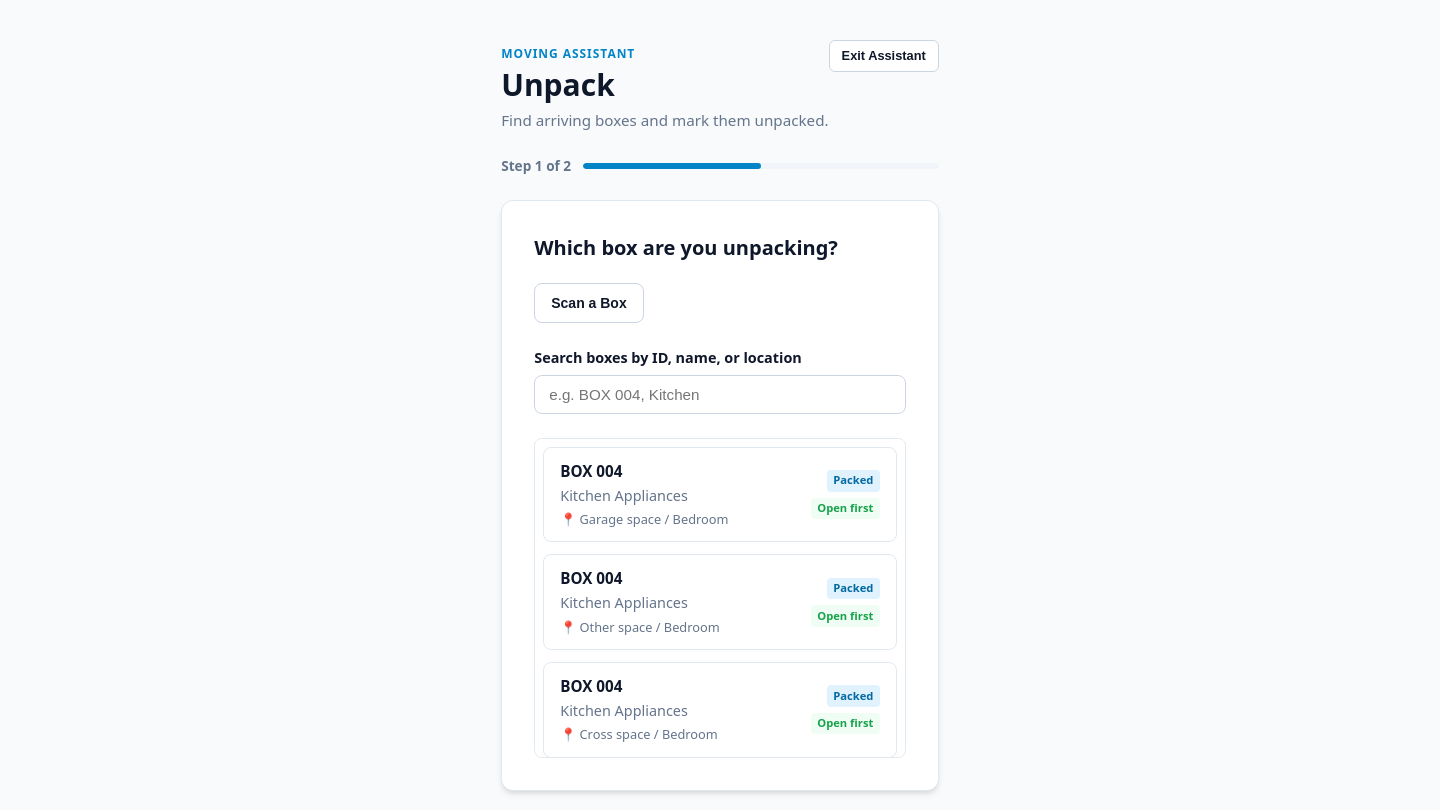
Test: QuickPackScreen Phase 2 (Landing, Pack a Box, Move Boxes) › Moving Assistant Phase 3 - Unpack › M: Already-unpacked scan shows warning and View Box button
Click the button "Scan a Box": click(589, 303) [534,283,644,323]
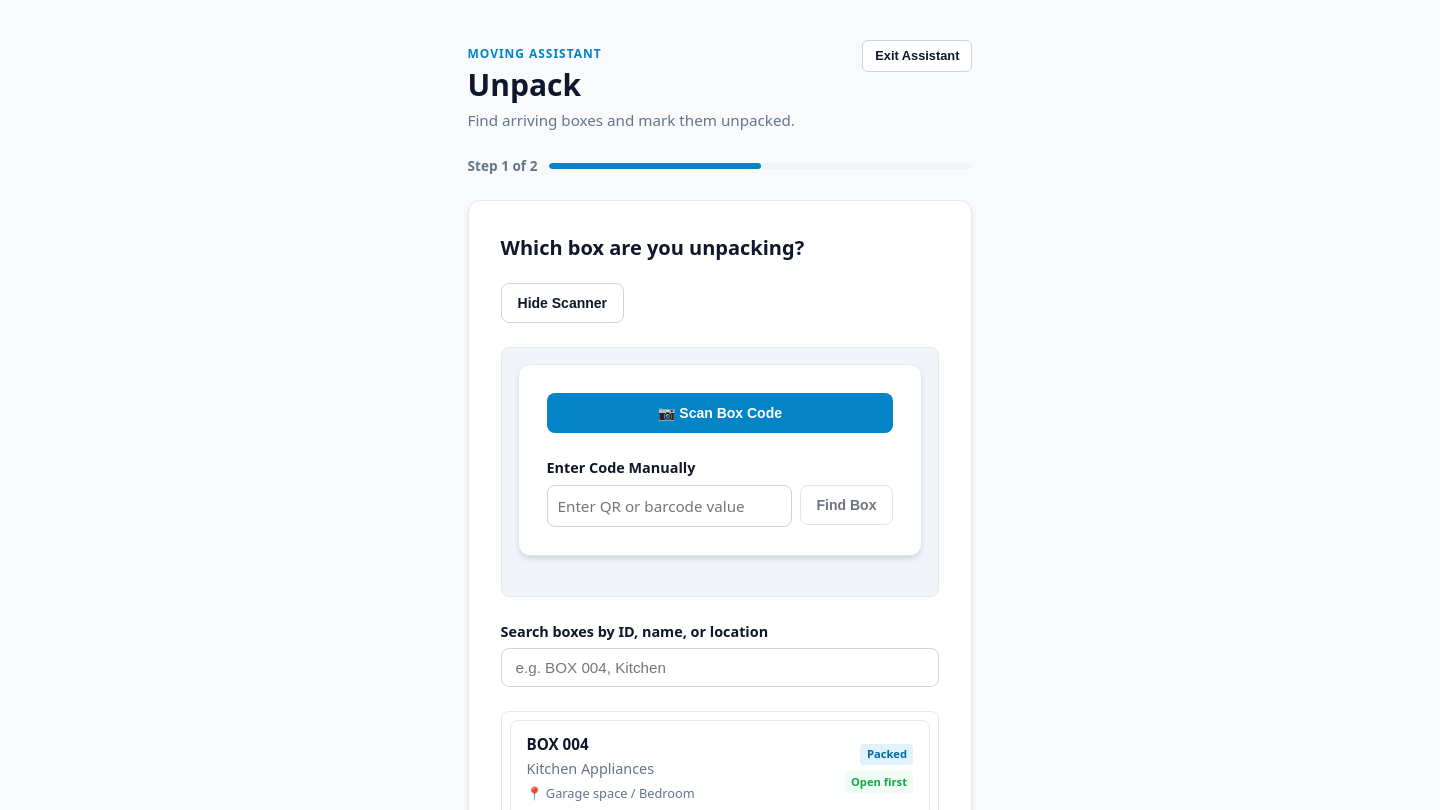
In the field with placeholder "Enter QR or barcode value": (669, 506) [546,485,792,527], type "wzi_qr_007"
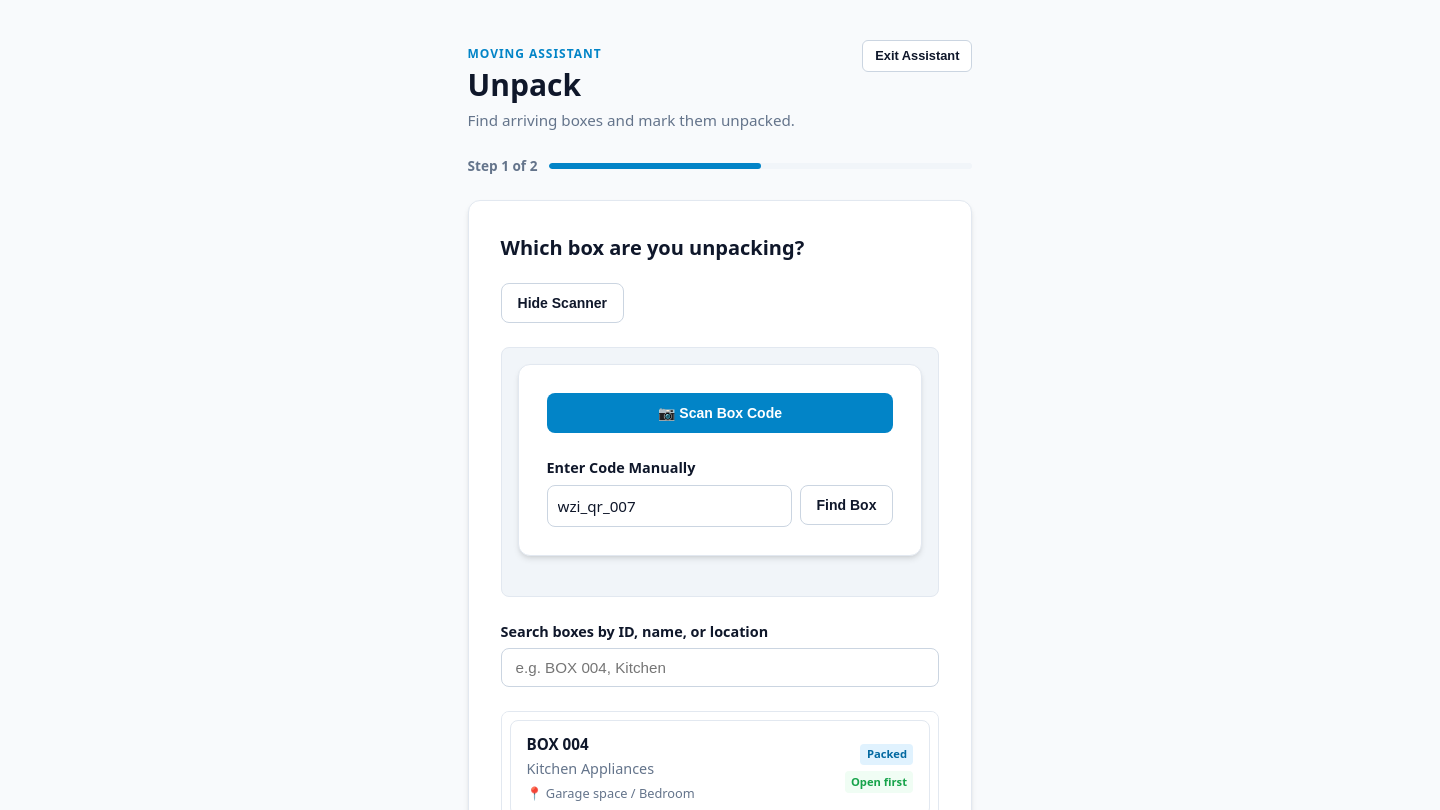
Click the button "Find Box": click(846, 505) [800,485,893,525]
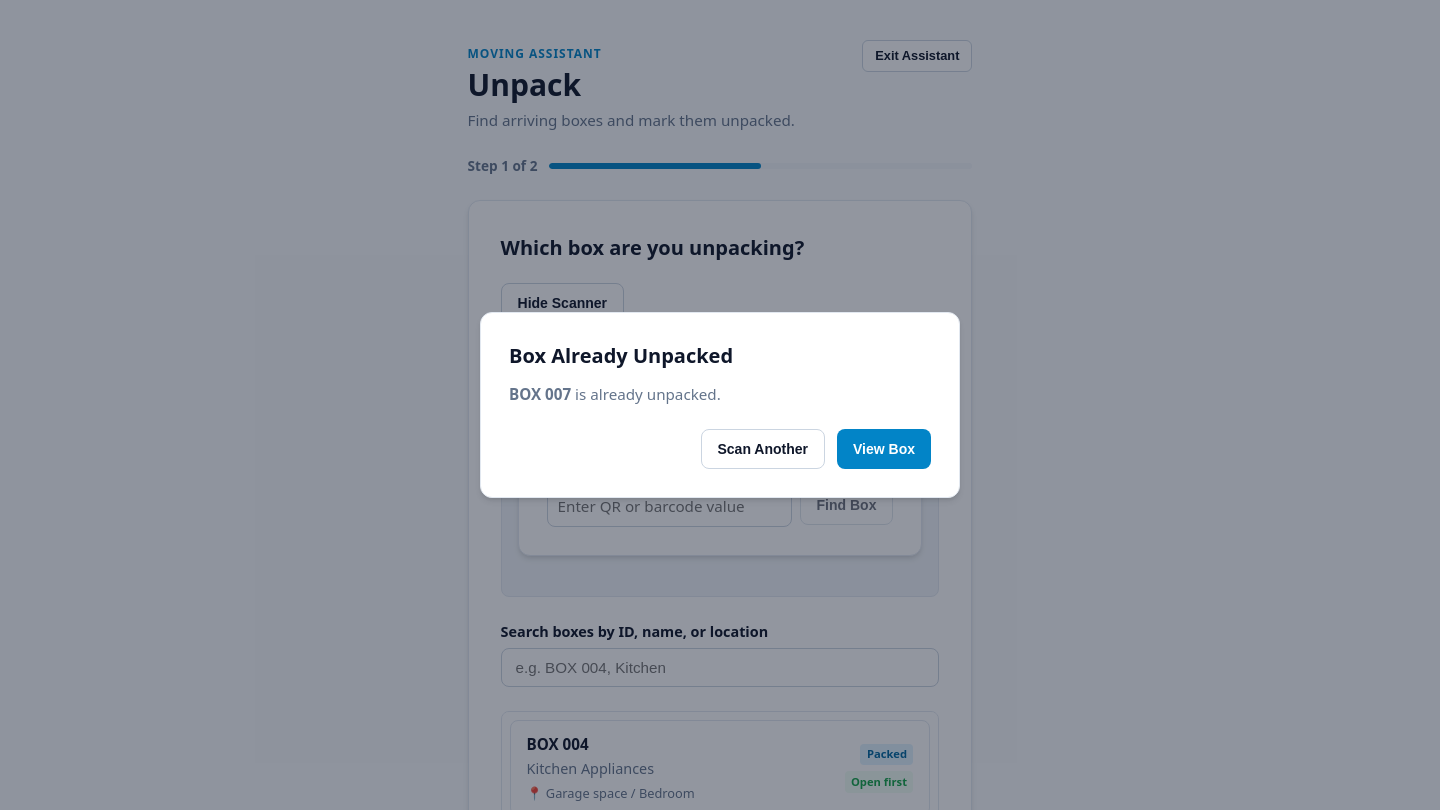
Expected: the heading "Box Already Unpacked" is shown, [509,342,733,369]
Expected: the text "BOX 007 is already unpacked." is shown, [509,384,721,404]
Expected: the button "View Box" is shown, [837,429,931,469]
